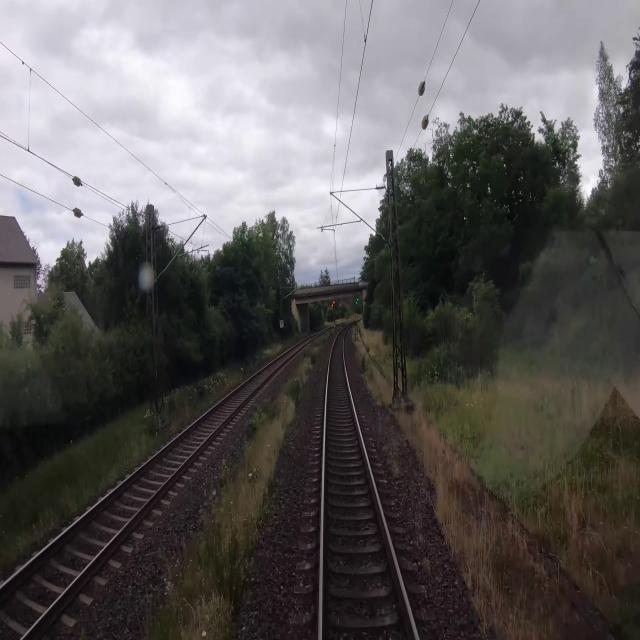Plant: (136, 332, 329, 639), (352, 320, 390, 408), (380, 443, 402, 477), (409, 511, 424, 544)
